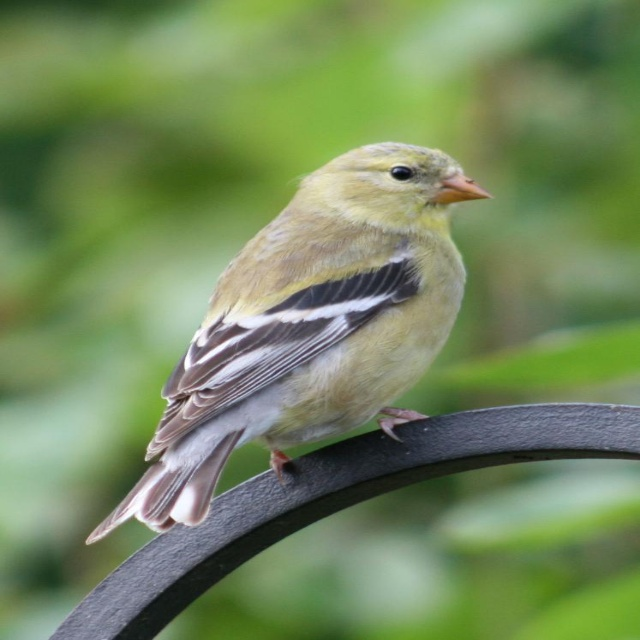Canary: (89, 140, 491, 542)
